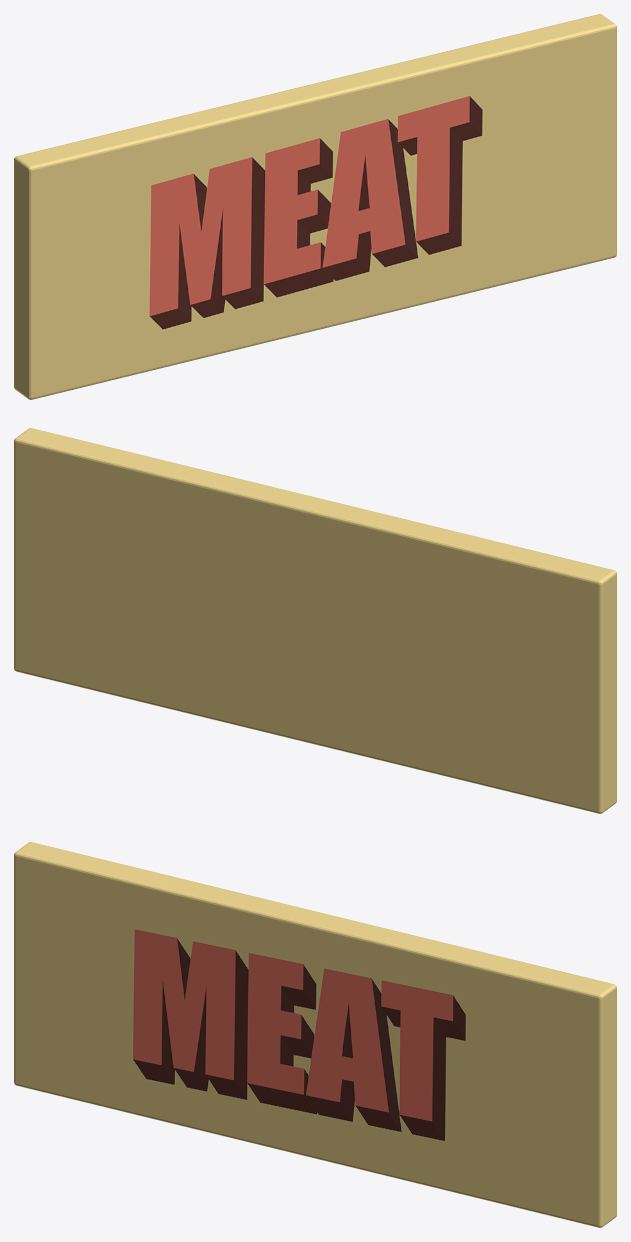
The model's file is meat.fbx.
The picture shows the model from 3 angles, top to bottom: view 1: azimuth 30°, elevation 25°; view 2: azimuth 150°, elevation 25°; view 3: azimuth 330°, elevation 25°; orthographic projection.
Parts seen in each view (by area): view 1: meat; view 2: meat; view 3: meat.
Boxes of the visible parts, x1,y1,x2,y2 form: meat: (14, 14, 616, 399); meat: (14, 428, 616, 813); meat: (14, 842, 616, 1227).
Size of the model in its own units: 102 by 38.8 by 5.
Materials: 1 (1 with a texture image).
